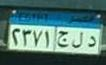1: (44, 32, 51, 48)
2: (11, 27, 21, 46)
3: (21, 28, 33, 47)
7: (33, 30, 43, 47)
daal: (87, 35, 98, 48)
jeem: (57, 30, 71, 48)
laam: (73, 32, 84, 49)
